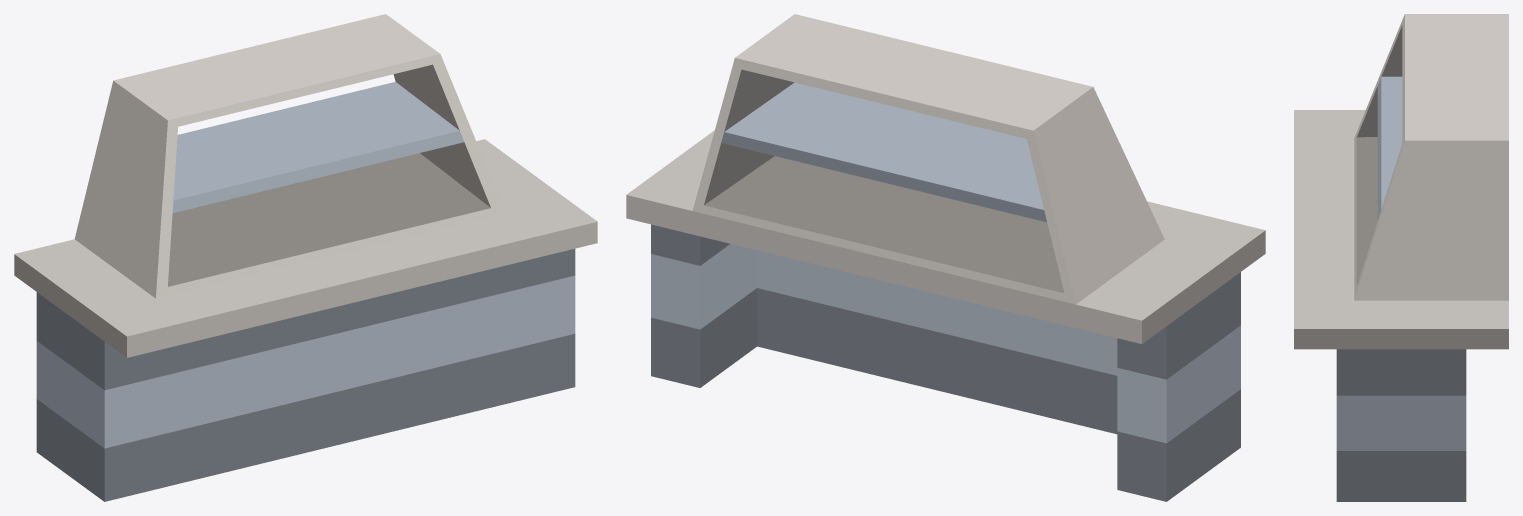
File: Counter4.glb
The picture shows the model from 3 angles, left to right: view 1: azimuth 30°, elevation 25°; view 2: azimuth 150°, elevation 25°; view 3: azimuth 270°, elevation 25°; orthographic projection. The views are drawn at different scales.
Visible parts, largest first — view 1: SI_Prop_Counter_04; view 2: SI_Prop_Counter_04; view 3: SI_Prop_Counter_04.
Part boxes in pixels (<box>): SI_Prop_Counter_04: <box>14,14,597,501</box>; SI_Prop_Counter_04: <box>626,14,1265,501</box>; SI_Prop_Counter_04: <box>1294,14,1508,501</box>.
Size of the model in its own units: 0.04 by 0.0269 by 0.0166.
1 material, 1 textured.
